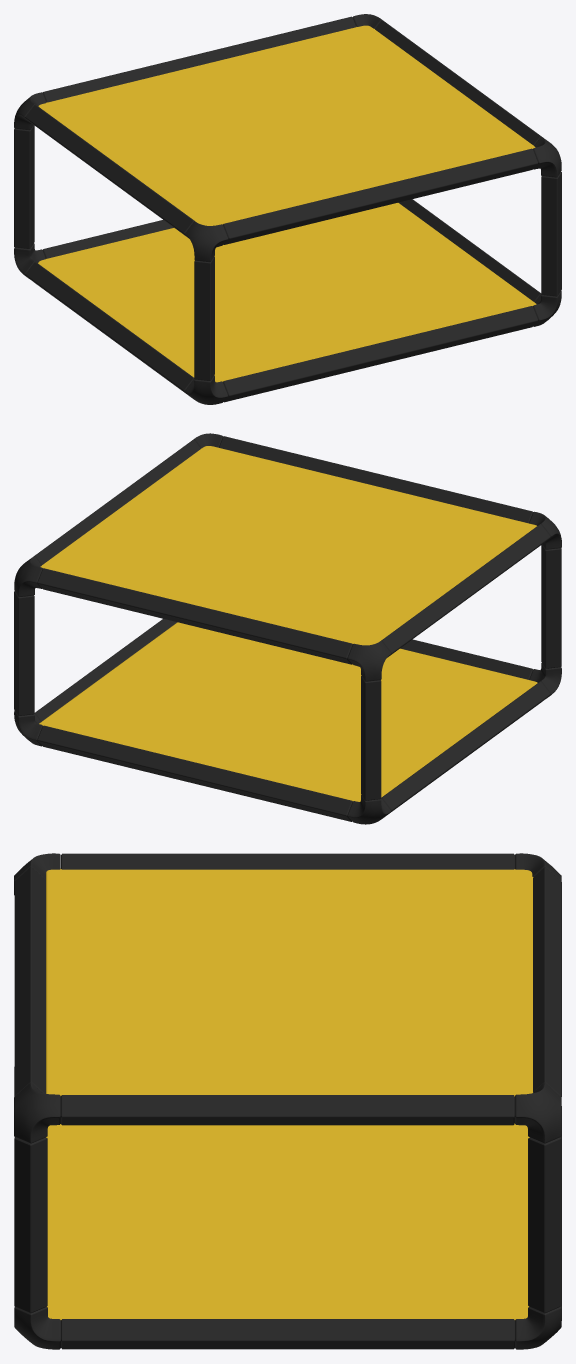
3 views of the same model, one above another, from view 1: azimuth 30°, elevation 25°; view 2: azimuth 150°, elevation 25°; view 3: azimuth 270°, elevation 25° (orthographic). The views are drawn at different scales.
Parts seen in each view (by area): view 1: 420x374x154; view 2: 420x374x154; view 3: 420x374x154.
Part boxes in pixels (x1,y1,x2,y2): 420x374x154: (14, 14, 561, 404); 420x374x154: (14, 433, 561, 824); 420x374x154: (14, 853, 561, 1349).
Bounding box in the file's own units: 0.4977 × 0.2317 × 0.4513.
